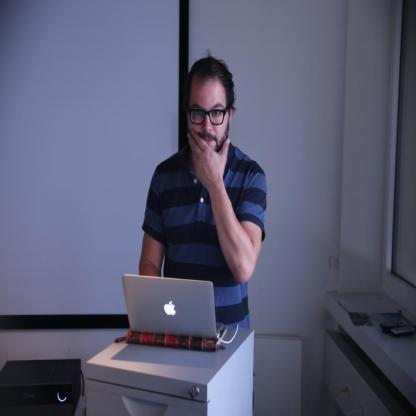board: (120, 272, 224, 340)
